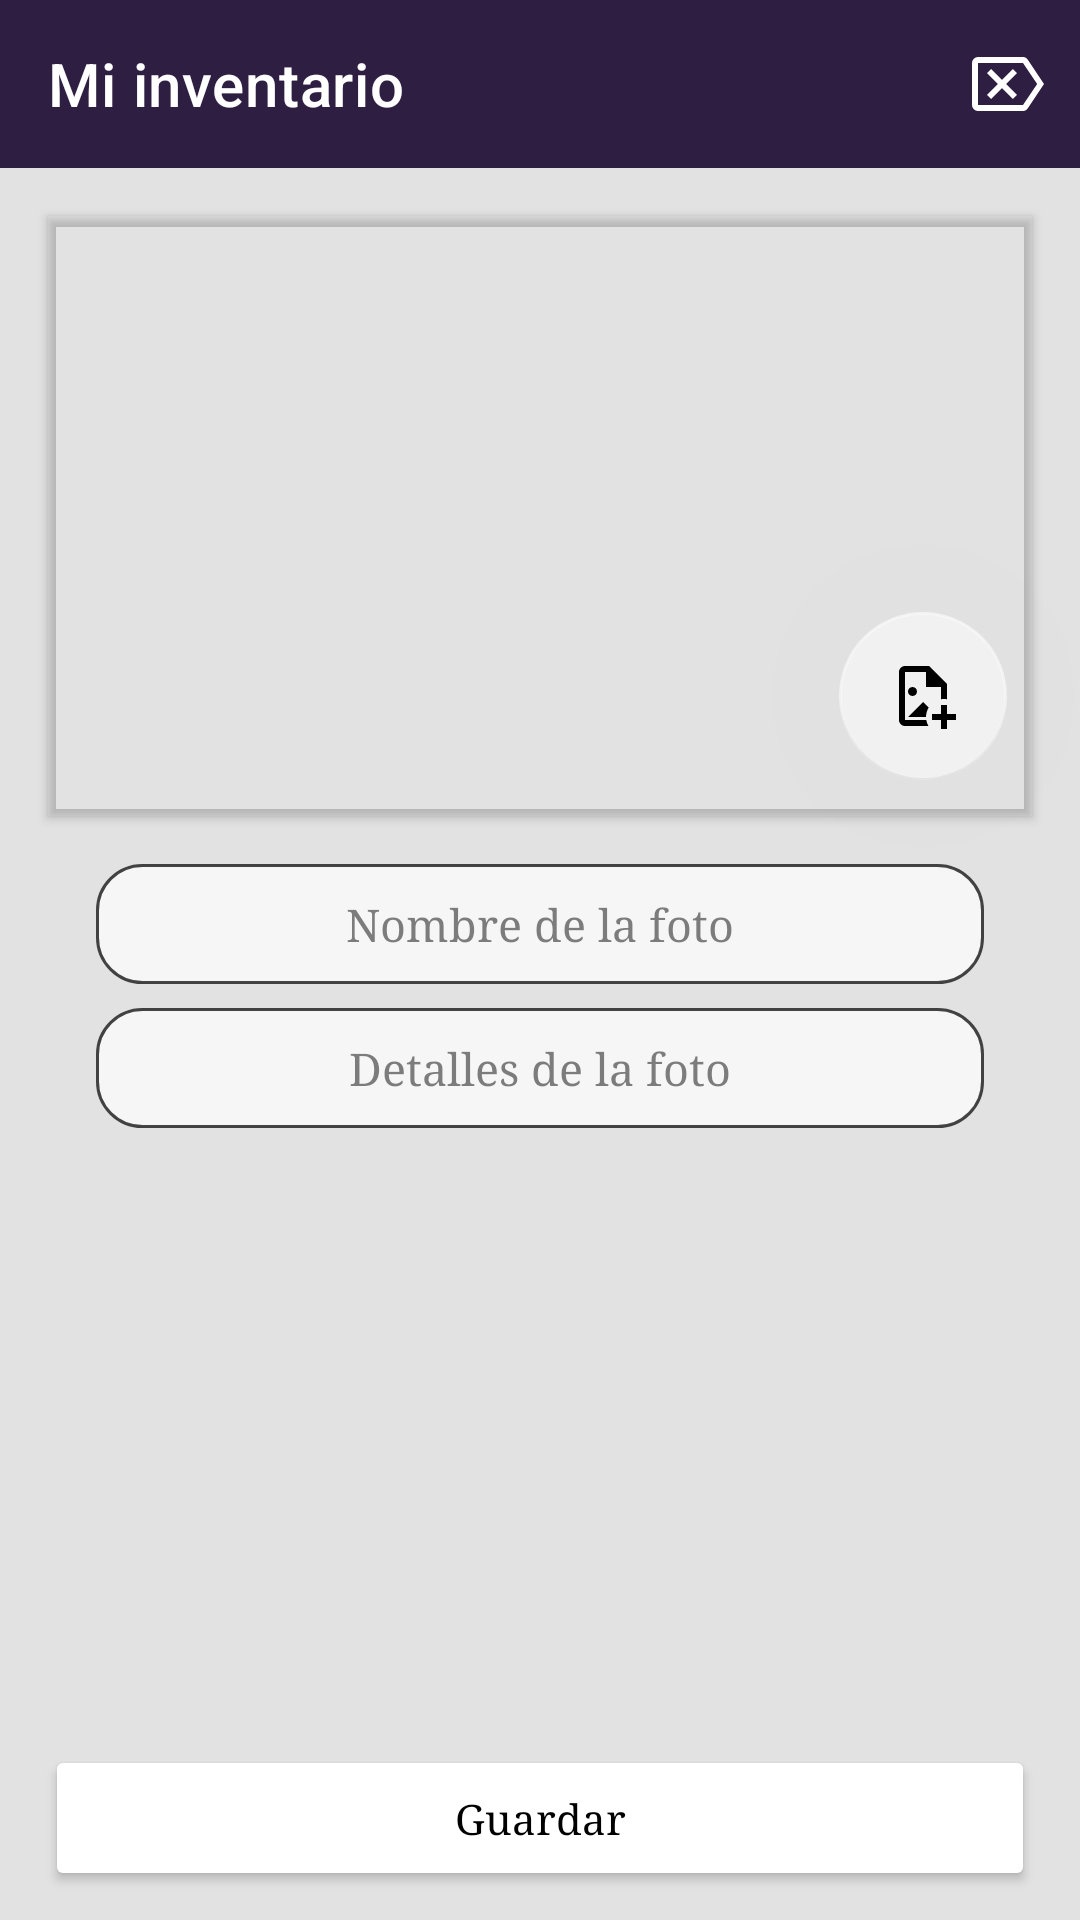

Named icons in this screenshot (1080x1920) and their bounding boxes, box(x1, y1, x2, y2):
file plus: box(839, 612, 1007, 778)
